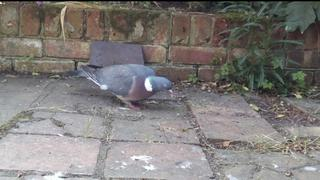wood pigeon: (66, 64, 173, 111)
